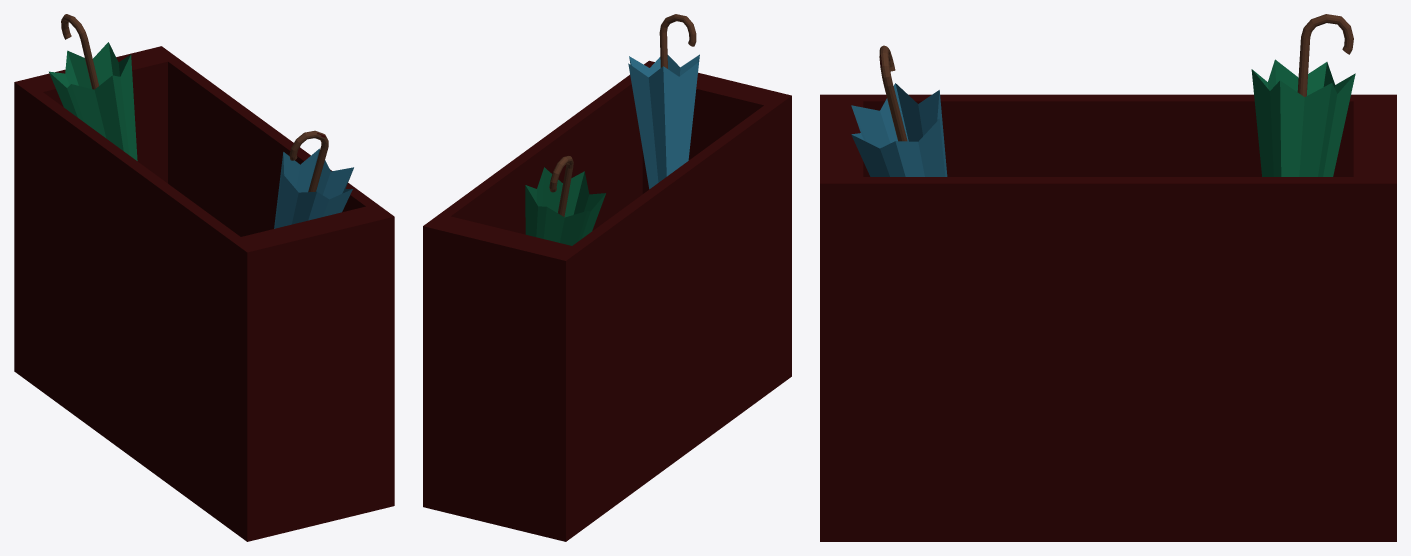
Rendered from PortaOmbrelli.fbx.
The picture shows the model from 3 angles, left to right: view 1: azimuth 30°, elevation 25°; view 2: azimuth 150°, elevation 25°; view 3: azimuth 270°, elevation 25°; orthographic projection. The views are drawn at different scales.
Visible parts, largest first — view 1: Cube; view 2: Cube; view 3: Cube.
Part boxes in pixels (x1,y1,x2,y2): Cube: [14, 14, 394, 541]; Cube: [423, 14, 791, 541]; Cube: [820, 14, 1396, 541].
Bounding box in the file's own units: 72.54 × 174 × 199.
